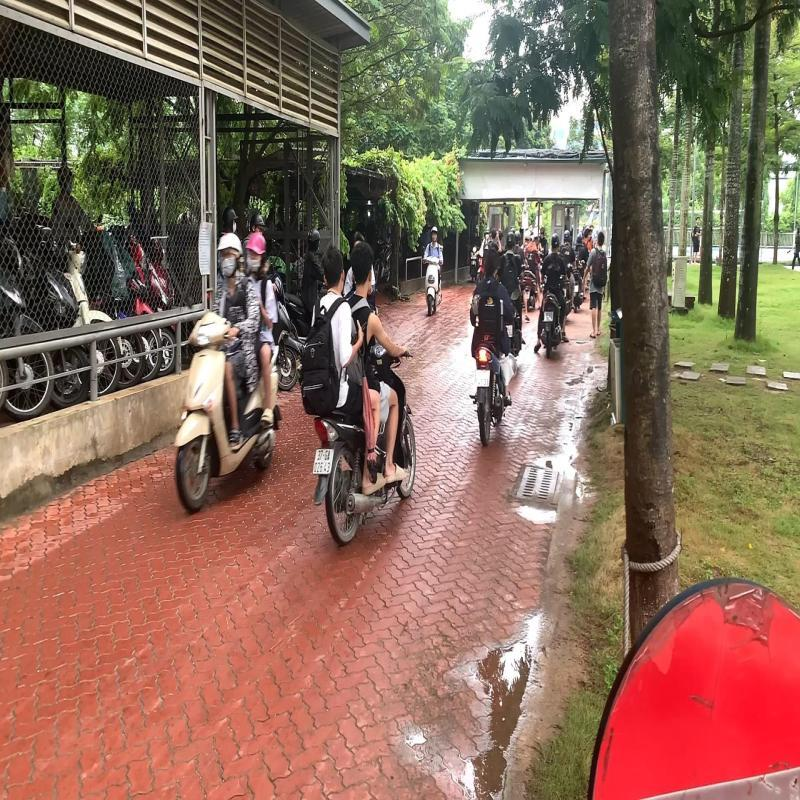licenseplate: (313, 448, 334, 474)
motorcyclist: (298, 238, 417, 546)
nohelmet: (322, 245, 346, 292), (352, 241, 374, 289)
